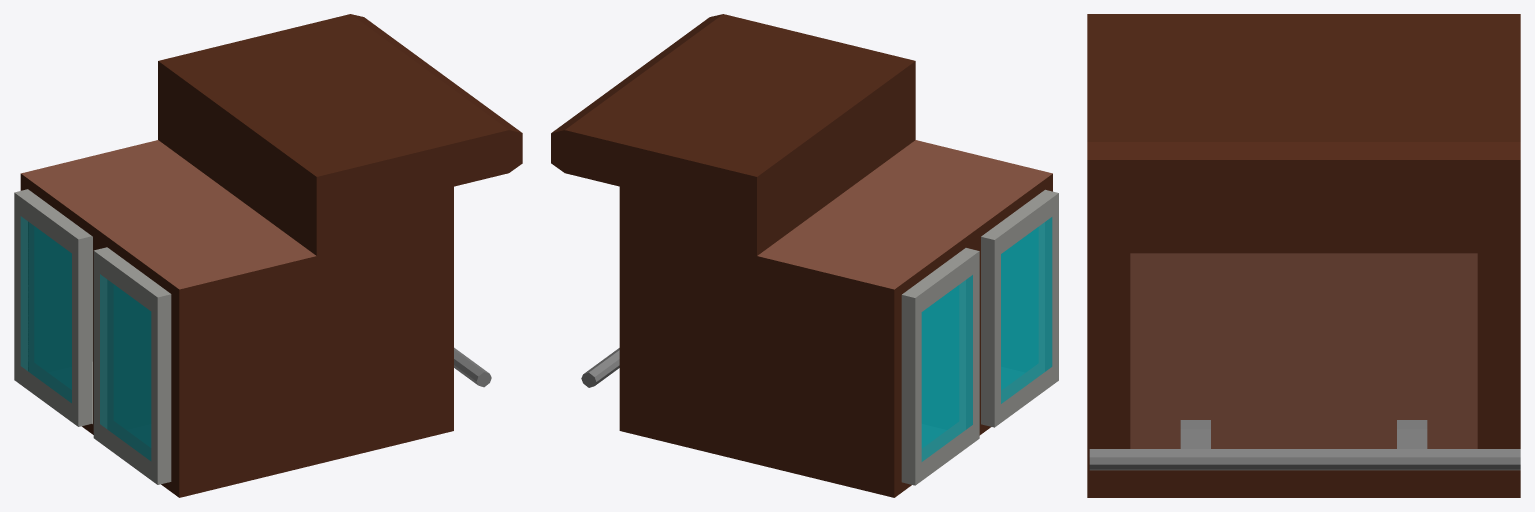
The model's file is Bar Fridge.fbx.
3 renders of one model, left to right at view 1: azimuth 30°, elevation 25°; view 2: azimuth 150°, elevation 25°; view 3: azimuth 270°, elevation 25°, orthographic. The views are drawn at different scales.
Visible parts, largest first — view 1: Bar Fridge, Bar Straight.001, Bar Straight.002, Bar Straight Pole; view 2: Bar Fridge, Bar Straight.002, Bar Straight.001, Bar Straight Pole; view 3: Bar Fridge, Bar Straight Pole.
Boxes of the visible parts, x1=… form: Bar Fridge: x1=20, y1=14, x2=522, y2=497; Bar Straight.001: x1=93, y1=247, x2=171, y2=484; Bar Straight.002: x1=14, y1=189, x2=92, y2=426; Bar Straight Pole: x1=454, y1=347, x2=491, y2=387; Bar Fridge: x1=551, y1=14, x2=1052, y2=497; Bar Straight.002: x1=901, y1=248, x2=979, y2=485; Bar Straight.001: x1=981, y1=189, x2=1058, y2=427; Bar Straight Pole: x1=581, y1=348, x2=619, y2=387; Bar Fridge: x1=1087, y1=14, x2=1520, y2=497; Bar Straight Pole: x1=1089, y1=420, x2=1520, y2=470.
Size of the model in its own units: 2600 by 2000 by 2000.
